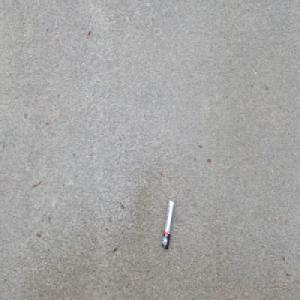Battery: (160, 197, 174, 251)
